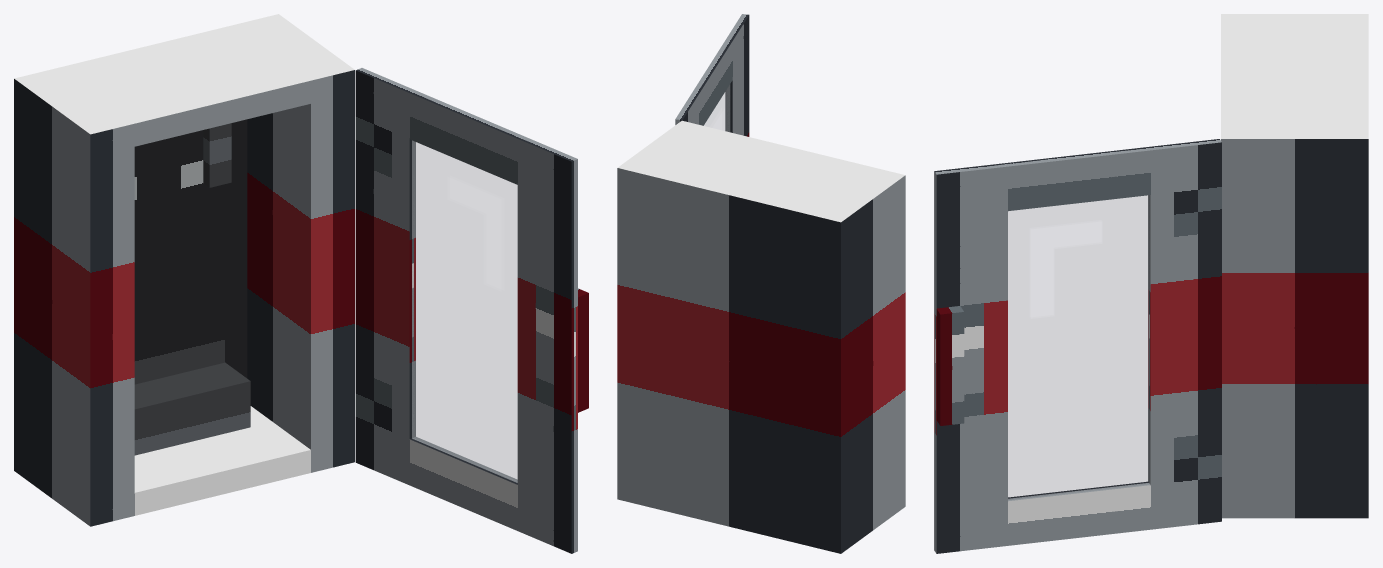
File: extinguisher_cabinet_empty_open.glb
3 renders of one model, left to right at view 1: azimuth 30°, elevation 25°; view 2: azimuth 150°, elevation 25°; view 3: azimuth 270°, elevation 25°, orthographic. The views are drawn at different scales.
Visible parts, largest first — view 1: Lined_Cabinet, Door_Frame, Window_Glass, Bottom_Cradle, Mounting_Clip, Door_Handle; view 2: Lined_Cabinet, Door_Frame, Window_Glass; view 3: Lined_Cabinet, Door_Frame, Window_Glass, Door_Handle.
Part boxes in pixels (<box>): Lined_Cabinet: <box>14,14,354,526</box>; Door_Frame: <box>355,68,577,553</box>; Window_Glass: <box>412,141,516,481</box>; Bottom_Cradle: <box>134,362,250,455</box>; Mounting_Clip: <box>203,123,231,187</box>; Door_Handle: <box>578,288,588,412</box>; Lined_Cabinet: <box>617,120,905,553</box>; Door_Frame: <box>675,14,749,136</box>; Window_Glass: <box>704,91,728,130</box>; Lined_Cabinet: <box>1221,14,1368,518</box>; Door_Frame: <box>934,139,1221,553</box>; Window_Glass: <box>1008,196,1149,499</box>; Door_Handle: <box>936,306,964,425</box>.
Bounding box in the file's own units: 0.4507 × 0.4781 × 0.4962.
Materials: 2 (2 with a texture image).
